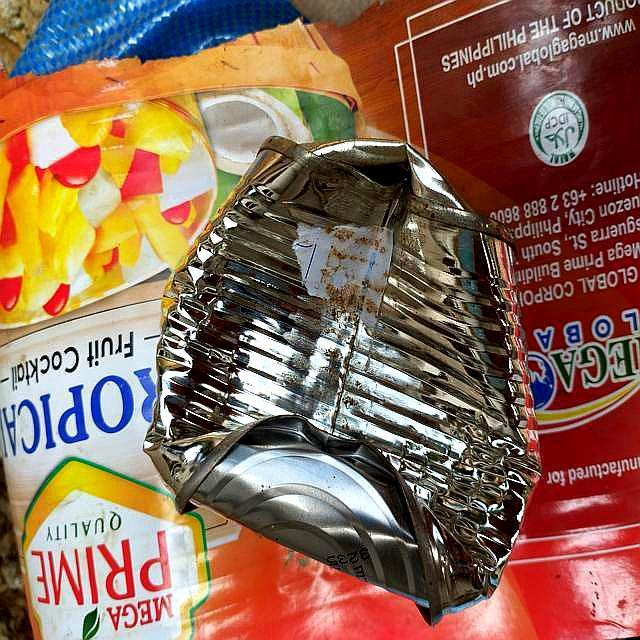Non-biodegradable: (143, 133, 541, 613)
